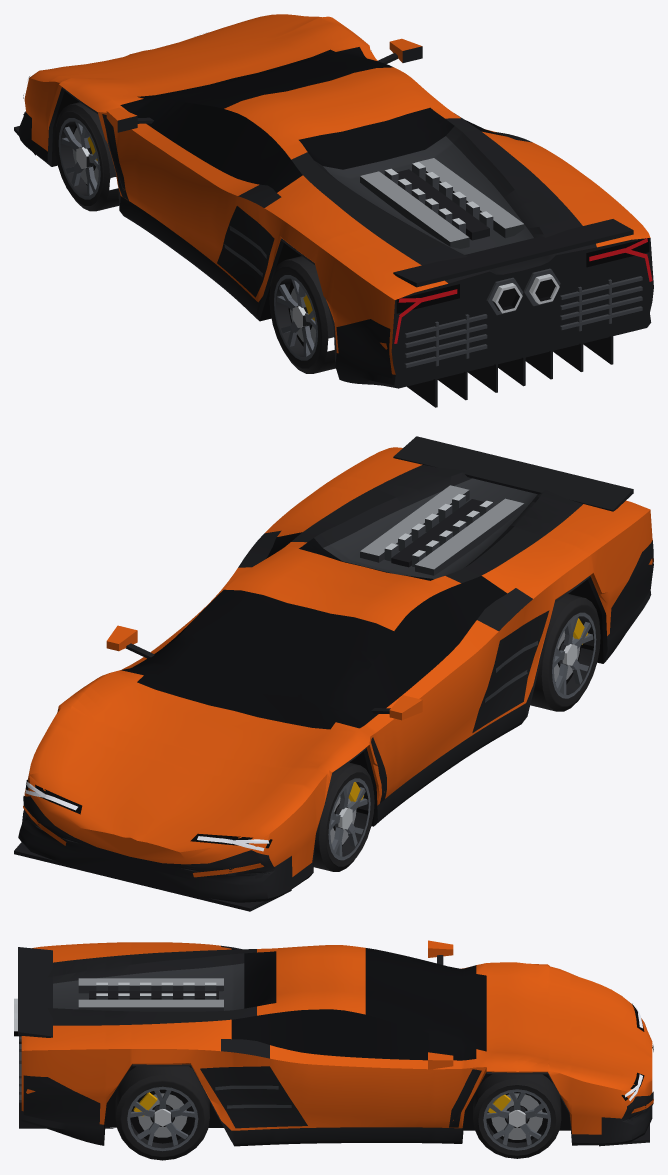
Rendered from supercar.glb.
3 renders of one model, top to bottom at view 1: azimuth 30°, elevation 25°; view 2: azimuth 150°, elevation 25°; view 3: azimuth 270°, elevation 25°, orthographic. The views are drawn at different scales.
Parts seen in each view (by area): view 1: Trim, Body, Windows, Wheel_RL, Wheel_FL, Taillights, Exhaust; view 2: Body, Trim, Windows, Wheel_RL, Wheel_FL, Headlights; view 3: Body, Trim, Windows, Wheel_RR, Wheel_FR.
Boxes of the visible parts, bbox=[...] form: Trim: bbox=[14, 46, 653, 407]; Body: bbox=[24, 14, 650, 374]; Windows: bbox=[120, 47, 505, 192]; Wheel_RL: bbox=[269, 256, 335, 373]; Wheel_FL: bbox=[54, 102, 118, 211]; Taillights: bbox=[394, 238, 652, 343]; Exhaust: bbox=[492, 274, 559, 313]; Body: bbox=[23, 447, 653, 877]; Trim: bbox=[14, 436, 653, 911]; Windows: bbox=[120, 532, 507, 729]; Wheel_RL: bbox=[530, 594, 600, 711]; Wheel_FL: bbox=[313, 762, 374, 871]; Headlights: bbox=[25, 781, 269, 851]; Body: bbox=[21, 940, 653, 1134]; Trim: bbox=[18, 945, 653, 1146]; Windows: bbox=[231, 948, 486, 1060]; Wheel_RR: bbox=[115, 1066, 209, 1160]; Wheel_FR: bbox=[473, 1074, 561, 1158].
Bounding box in the file's own units: 2.22 × 1.15 × 5.02.
Materials: 1 (1 with a texture image).
